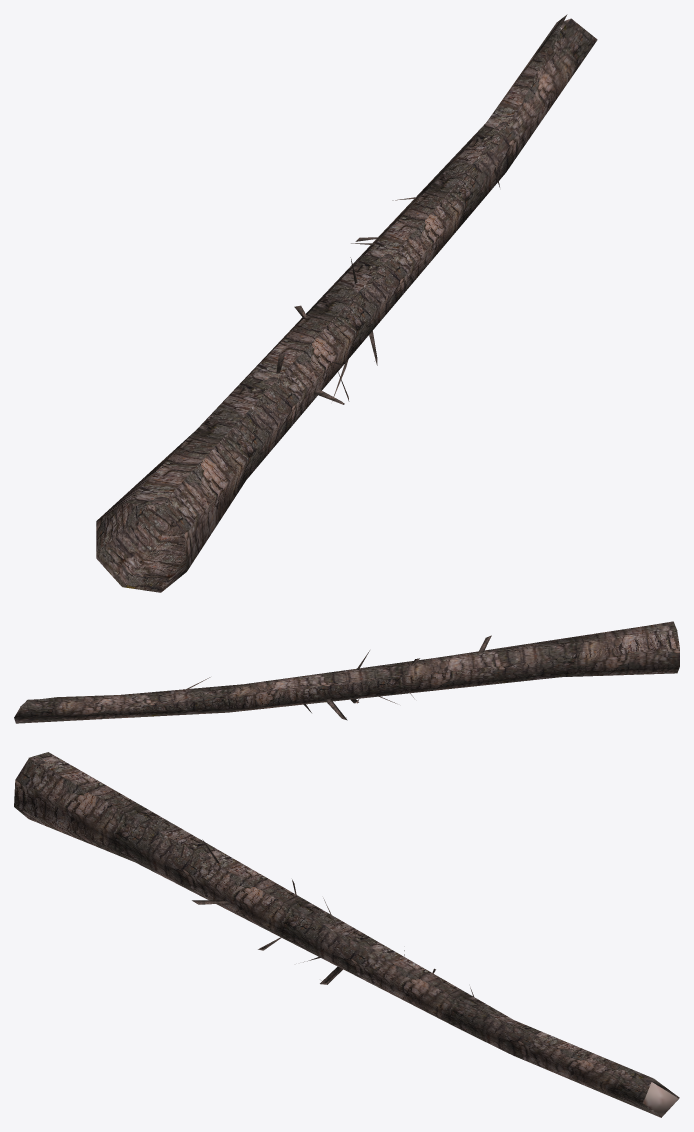
Rendered from dead_log_0_lod1.glb.
3 views of the same model, one above another, from view 1: azimuth 30°, elevation 25°; view 2: azimuth 150°, elevation 25°; view 3: azimuth 270°, elevation 25° (orthographic). The views are drawn at different scales.
Visible parts, largest first — view 1: dead_log_0_lod1; view 2: dead_log_0_lod1; view 3: dead_log_0_lod1.
Boxes of the visible parts, x1=… form: dead_log_0_lod1: x1=96, y1=14, x2=597, y2=592; dead_log_0_lod1: x1=14, y1=621, x2=679, y2=723; dead_log_0_lod1: x1=14, y1=752, x2=679, y2=1117.
Size of the model in its own units: 5.88 by 0.7655 by 5.28.
Materials: 1 (1 with a texture image).
